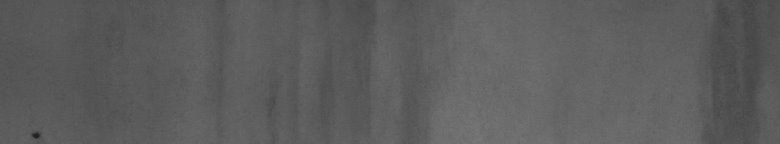fi: (28, 121, 45, 136)
